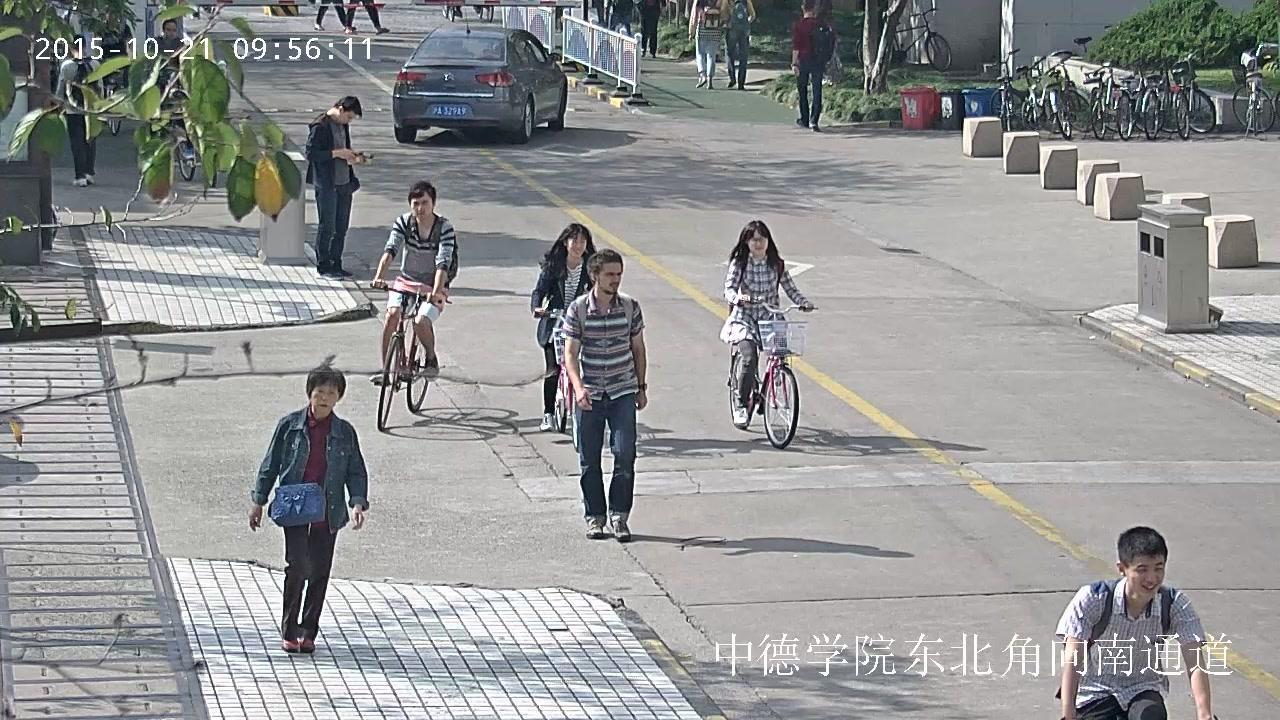face: (1126, 553, 1165, 596), (311, 380, 338, 415), (598, 261, 620, 294), (410, 191, 433, 218), (748, 231, 768, 255), (567, 234, 586, 258), (340, 113, 357, 124), (165, 23, 176, 38)
